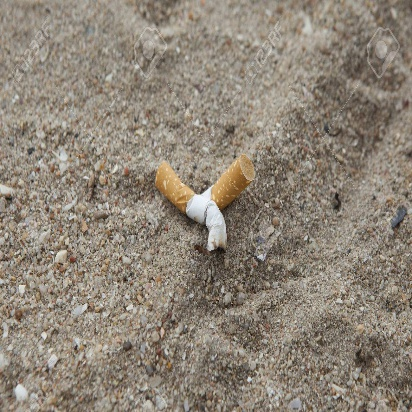cigarette: (153, 155, 236, 257), (200, 153, 252, 206)
